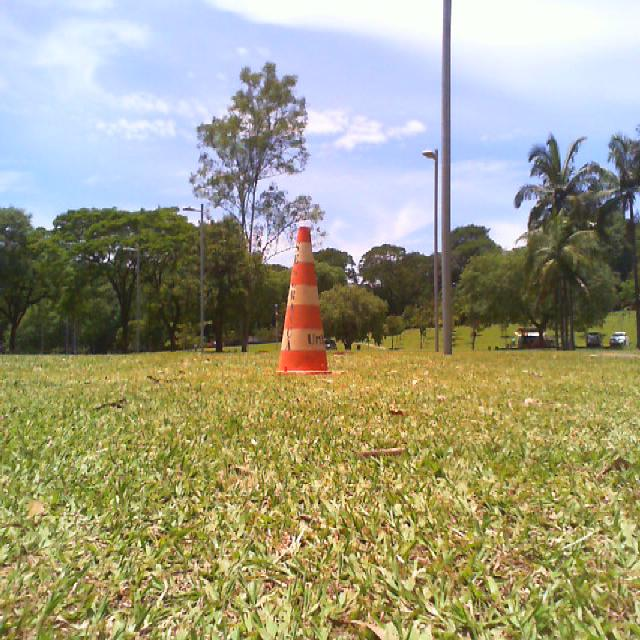cone: (276, 227, 331, 373)
